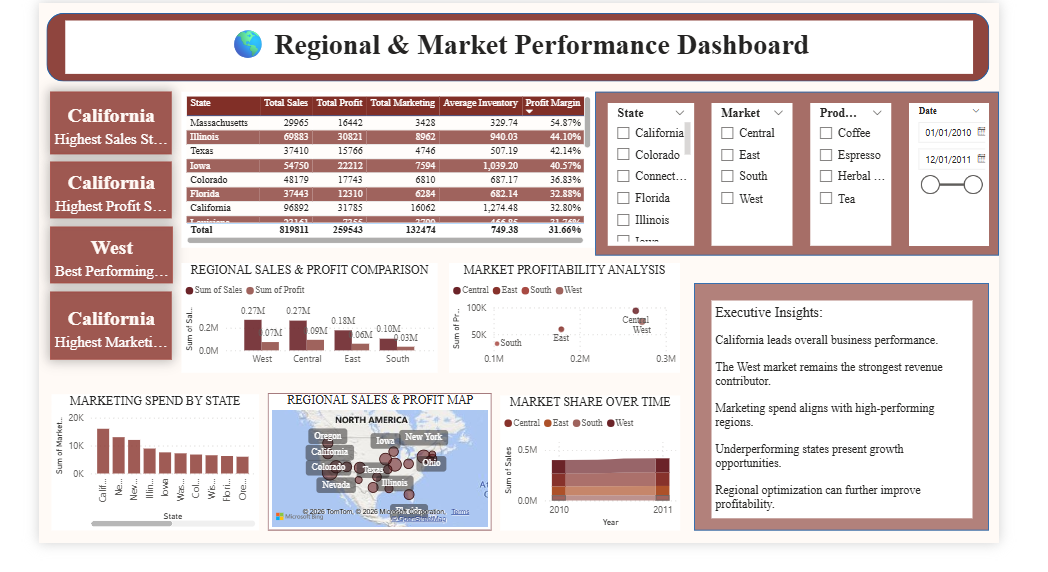

What the dashboard file says about the page in this screenshot:
{"tool":"powerbi","page":{"name":"Regional & Market Performance Dashboard","canvas":[1280,720],"ordinal":2},"visuals":[{"type":"shape","box":[10,12.9,1257.1,91.4],"z":0},{"type":"textbox","box":[34.3,22.9,1210,71.4],"z":1000},{"type":"card","fields":{"Values":["fact.Highest Sales State"]},"box":[15.7,118.6,161.4,82.9],"z":2000},{"type":"card","fields":{"Values":["fact.Highest Profit State"]},"box":[15,211.7,161.7,75],"z":3000},{"type":"card","fields":{"Values":["fact.Highest Marketing State"]},"box":[15,385,161.7,90],"z":4000},{"type":"card","fields":{"Values":["fact.Best Performing Market"]},"box":[15,298.3,163.3,75],"z":5000},{"type":"tableEx","fields":{"Values":["Location.State","fact.Total Sales","fact.Total Profit","fact.Total Marketing","fact.Average Inventory","fact.Profit Margin"]},"box":[190,118.3,551.7,208.3],"z":6000},{"type":"ribbonChart","title":"MARKET SHARE OVER TIME","fields":{"Category":["fact.Date.Variation.Date Hierarchy.Year"],"Series":["Location.Market"],"Y":["Sum(fact.Sales)"]},"box":[615,523.3,240,180],"z":7000},{"type":"clusteredColumnChart","title":"REGIONAL SALES & PROFIT COMPARISON","fields":{"Category":["Location.Market"],"Y":["Sum(fact.Sales)","Sum(fact.Profit)"]},"box":[190,346.7,341.7,146.7],"z":8000},{"type":"clusteredColumnChart","title":"MARKETING SPEND BY STATE","fields":{"Category":["Location.State"],"Y":["Sum(fact.Marketing)"]},"box":[16.7,521.7,276.7,181.7],"z":9000},{"type":"scatterChart","title":"MARKET PROFITABILITY ANALYSIS","fields":{"X":["Sum(fact.Sales)"],"Y":["Sum(fact.Profit)"],"Series":["Location.Market"],"Size":["Sum(fact.Marketing)"]},"box":[546.7,346.7,308.3,146.7],"z":10000},{"type":"shape","box":[741.7,118.3,538.3,218.3],"z":11000},{"type":"slicer","fields":{"Values":["Location.State"]},"box":[752.8,133.9,120.6,189.4],"z":12000},{"type":"slicer","fields":{"Values":["Location.Market"]},"box":[885.5,133.9,119.4,189.4],"z":13000},{"type":"slicer","fields":{"Values":["Product.Product Type"]},"box":[1019.4,133.9,117,189.4],"z":14000},{"type":"slicer","fields":{"Values":["fact.Date"]},"box":[1149.7,133.9,117,189.4],"z":15000},{"type":"map","title":"REGIONAL SALES & PROFIT MAP","fields":{"Category":["Location.State"],"Size":["fact.Total Sales"]},"box":[305,520,298.3,183.3],"z":16000},{"type":"shape","box":[873.3,373.3,393.3,330],"z":17000},{"type":"textbox","box":[885.5,384.9,366.8,308.8],"z":18000}]}

Visuals, with their boxes in screenshot pixels (x1, y1, x2, y2):
shape: 43/10/995/79
textbox: 61/17/978/71
card - fact.Highest Sales State: 47/90/170/153
card - fact.Highest Profit State: 47/160/169/217
card - fact.Highest Marketing State: 47/292/169/360
card - fact.Best Performing Market: 47/226/170/283
tableEx - Location.State x fact.Total Sales: 179/90/597/247
"MARKET SHARE OVER TIME" ribbonChart: 501/396/683/533
"REGIONAL SALES & PROFIT COMPARISON" clusteredColumnChart: 179/263/438/374
"MARKETING SPEND BY STATE" clusteredColumnChart: 48/395/258/533
"MARKET PROFITABILITY ANALYSIS" scatterChart: 449/263/683/374
shape: 597/90/1005/255
slicer - Location.State: 605/101/697/245
slicer - Location.Market: 706/101/796/245
slicer - Product.Product Type: 807/101/896/245
slicer - fact.Date: 906/101/995/245
"REGIONAL SALES & PROFIT MAP" map: 266/394/492/533
shape: 697/283/995/533
textbox: 706/291/984/525
